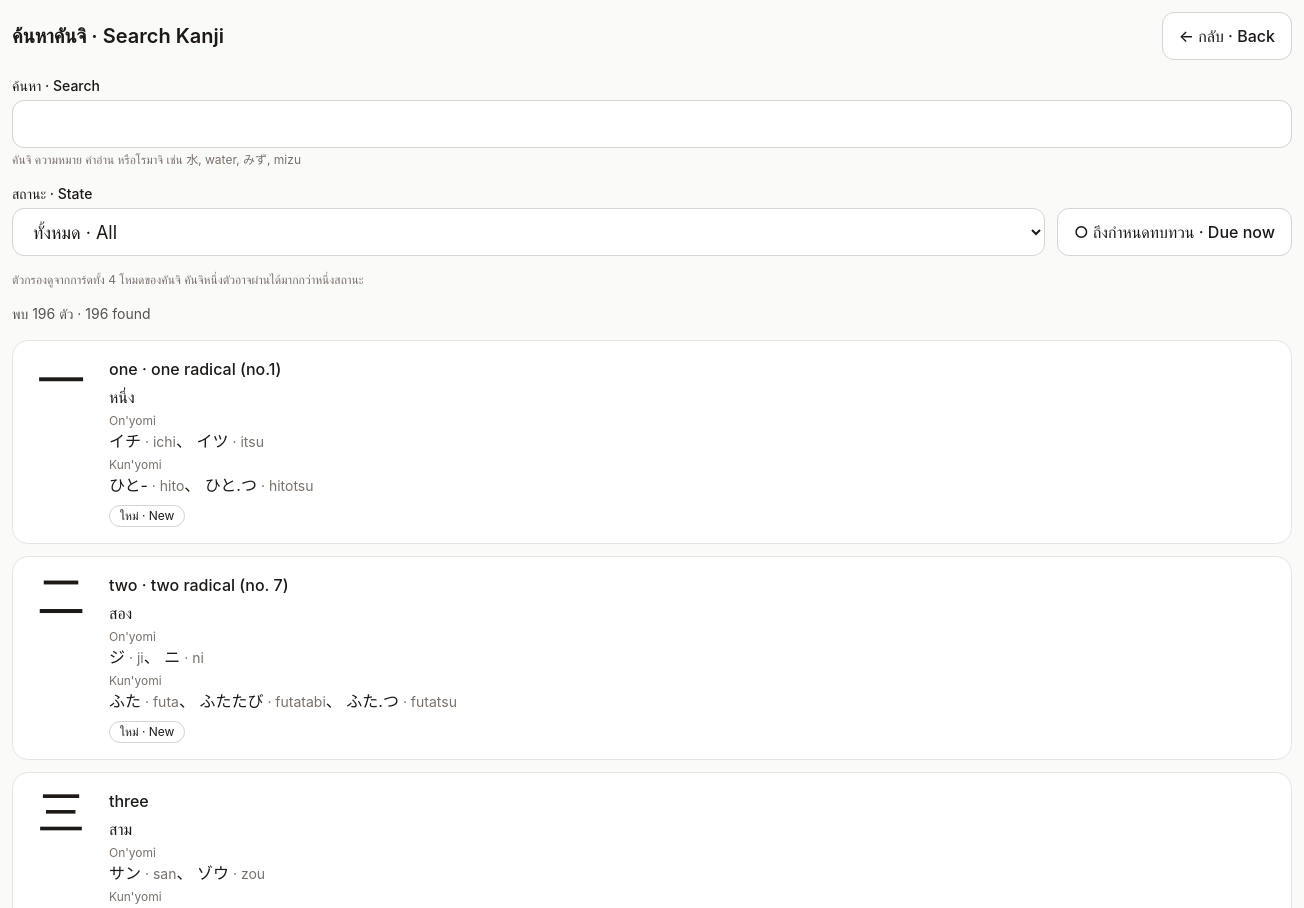
Test: search screen (real repositories, real dataset) › state filter + search + Due now combine, with real review data
Expected: the text "พบ 196 ตัว · 196 found" is shown, [12,305,151,322]
Select "Mastered Kanji (ครบทั้ง 4 โหมด)" in the dropdown labelled "สถานะ · State" at (528, 232), box [12,208,1045,256]
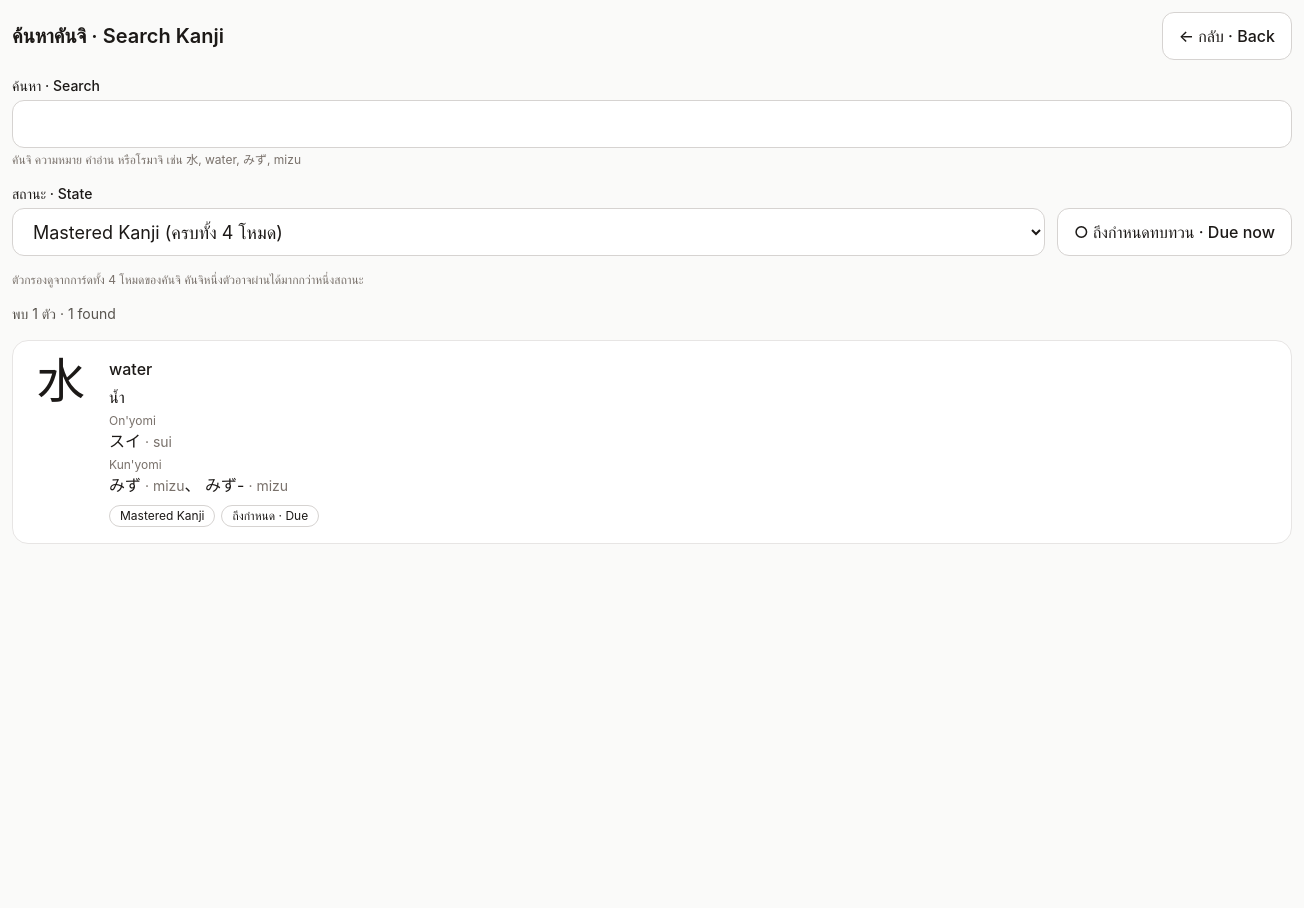
Expected: the list item "Mastered Kanji" is shown, [109,505,216,527]
Result: the text "พบ 1 ตัว · 1 found" is shown at [12,305,116,322]
Select "ทบทวน · Review" in the dropdown labelled "สถานะ · State" at (528, 232), box [12,208,1045,256]
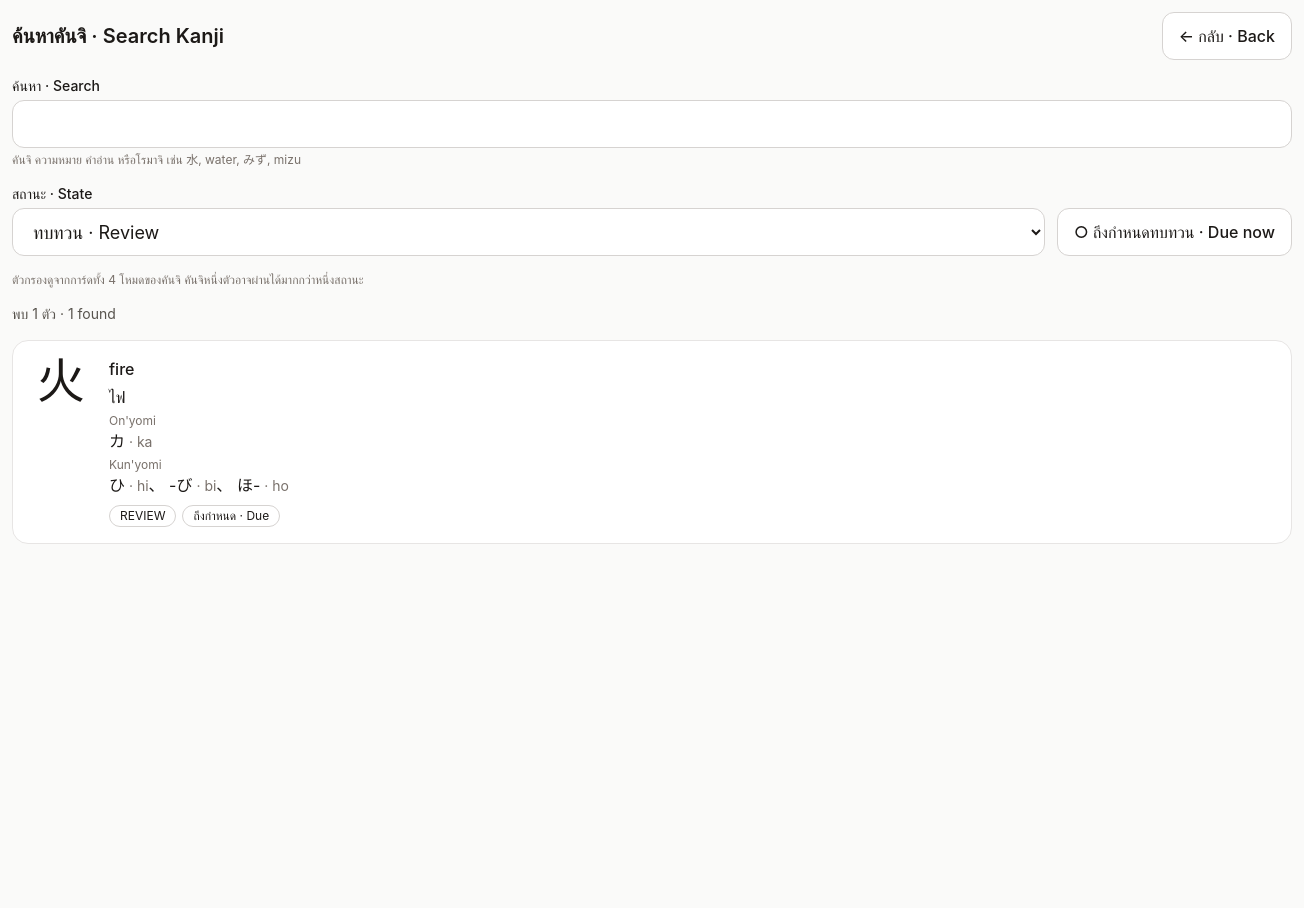
Click the button "○ ถึงกำหนดทบทวน · Due now" at (1174, 232), box [1057,208,1292,256]
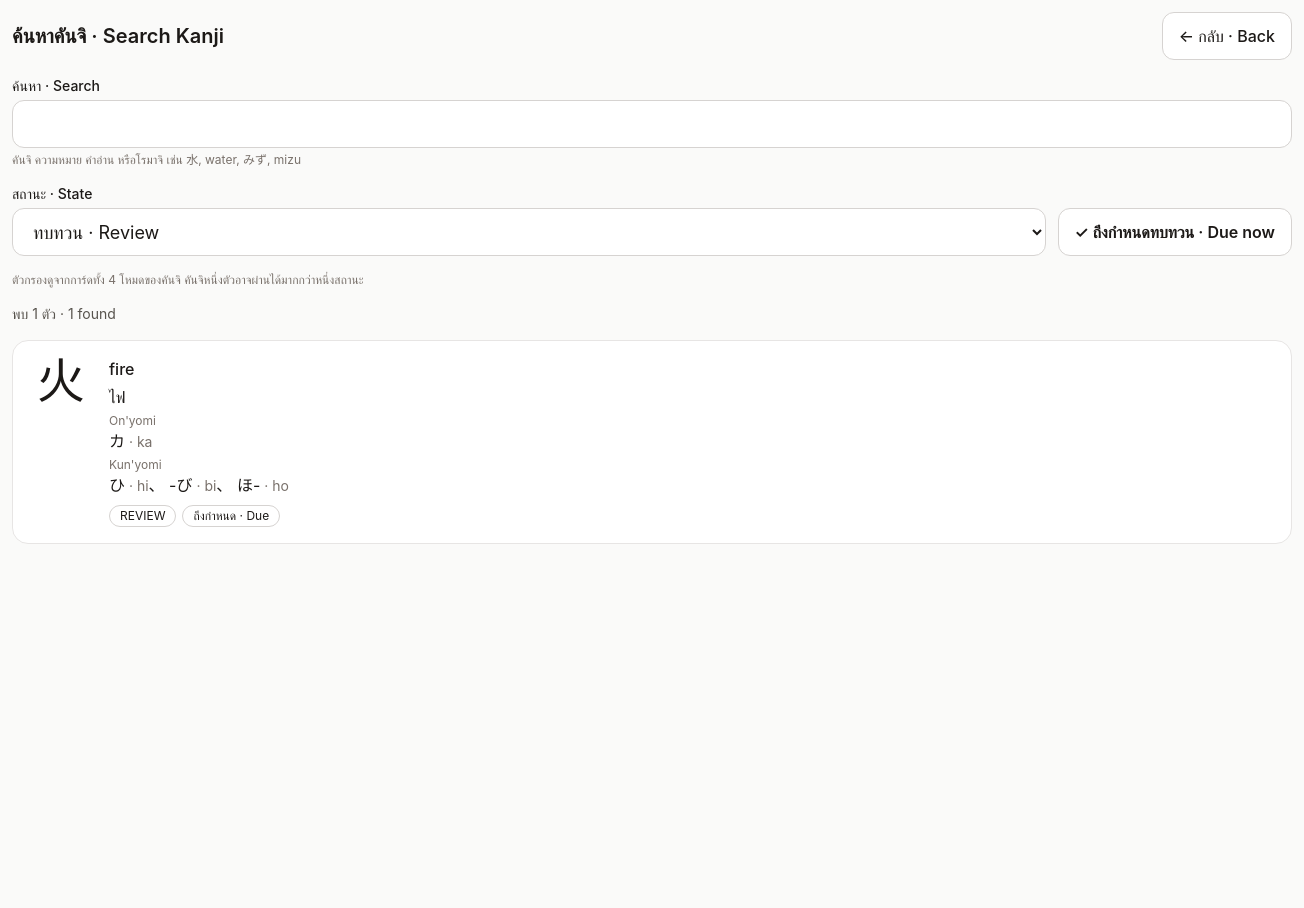
Result: the text "พบ 1 ตัว · 1 found" is shown at [12,305,116,322]
Type "water" into the search field labelled "ค้นหา · Search" at (652, 124), box [12,100,1292,148]
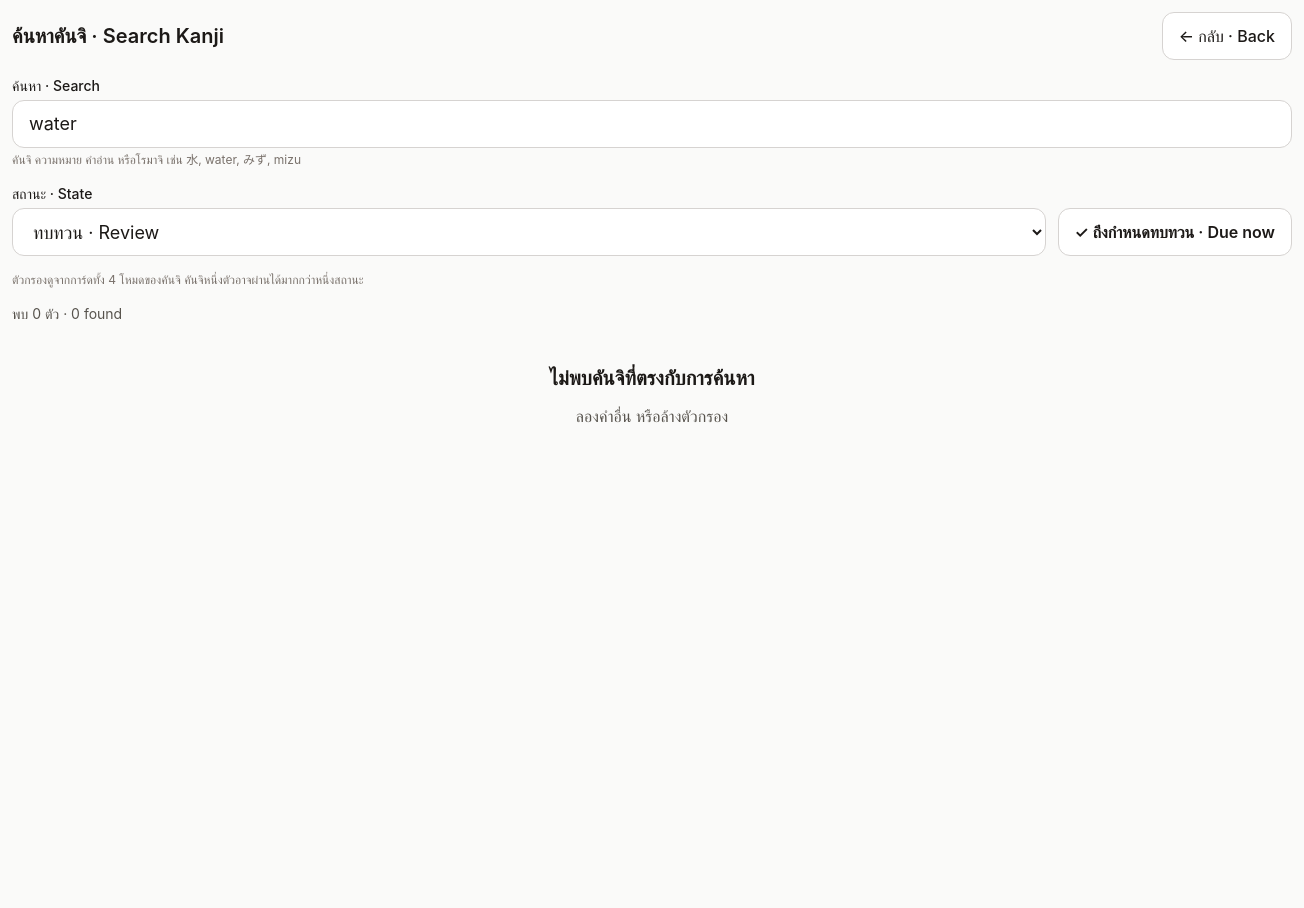
Result: the heading "ไม่พบคันจิที่ตรงกับการค้นหา" is shown at [550,364,755,392]
